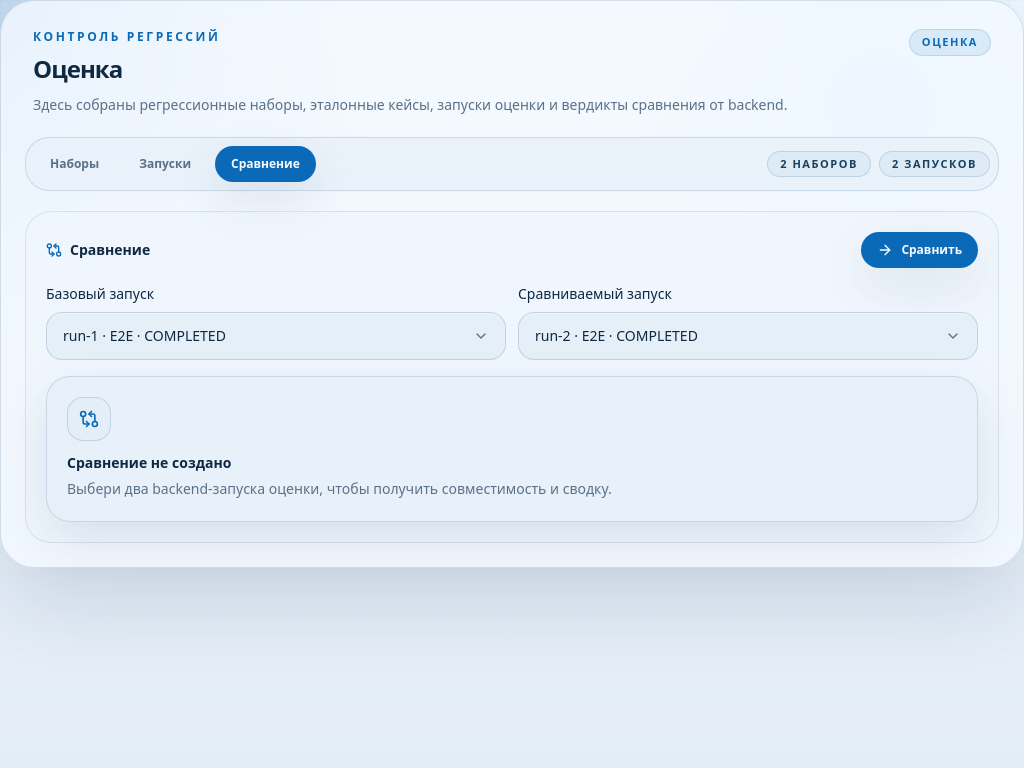
Test: EvalTab › renders compatible compare with empty metricSummary as a release-proof error
Click the button "Сравнить" at (920, 250), box [861,232,978,268]
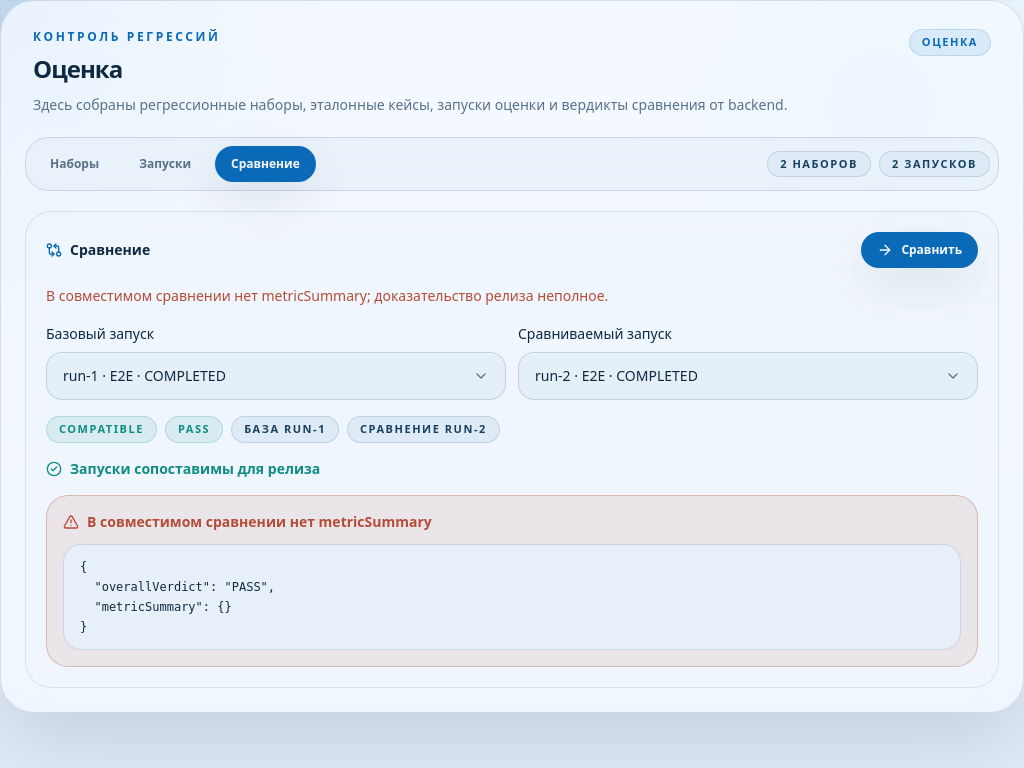
expect the text "В совместимом сравнении нет metricSummary" is shown: met, box [63,512,432,530]
expect the text "доказательство релиза неполное" is shown: met, box [46,286,608,305]
